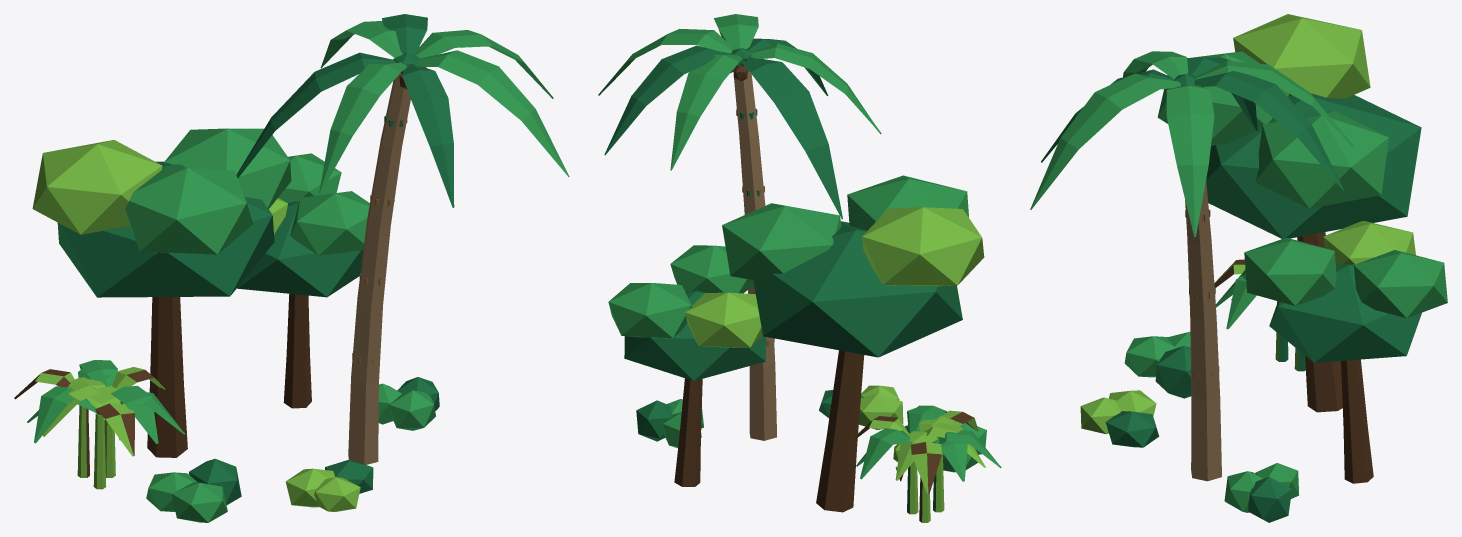
Rendered from Selva A.fbx.
The picture shows the model from 3 angles, left to right: view 1: azimuth 30°, elevation 25°; view 2: azimuth 150°, elevation 25°; view 3: azimuth 270°, elevation 25°; orthographic projection. The views are drawn at different scales.
Parts seen in each view (by area): view 1: Selva A; view 2: Selva A; view 3: Selva A.
Part boxes in pixels (left/top/right/bottom): Selva A: left=14, top=14, right=569, bottom=522; Selva A: left=598, top=14, right=1001, bottom=522; Selva A: left=1030, top=14, right=1447, bottom=522.
Size of the model in its own units: 2.8 by 2.34 by 2.05.
